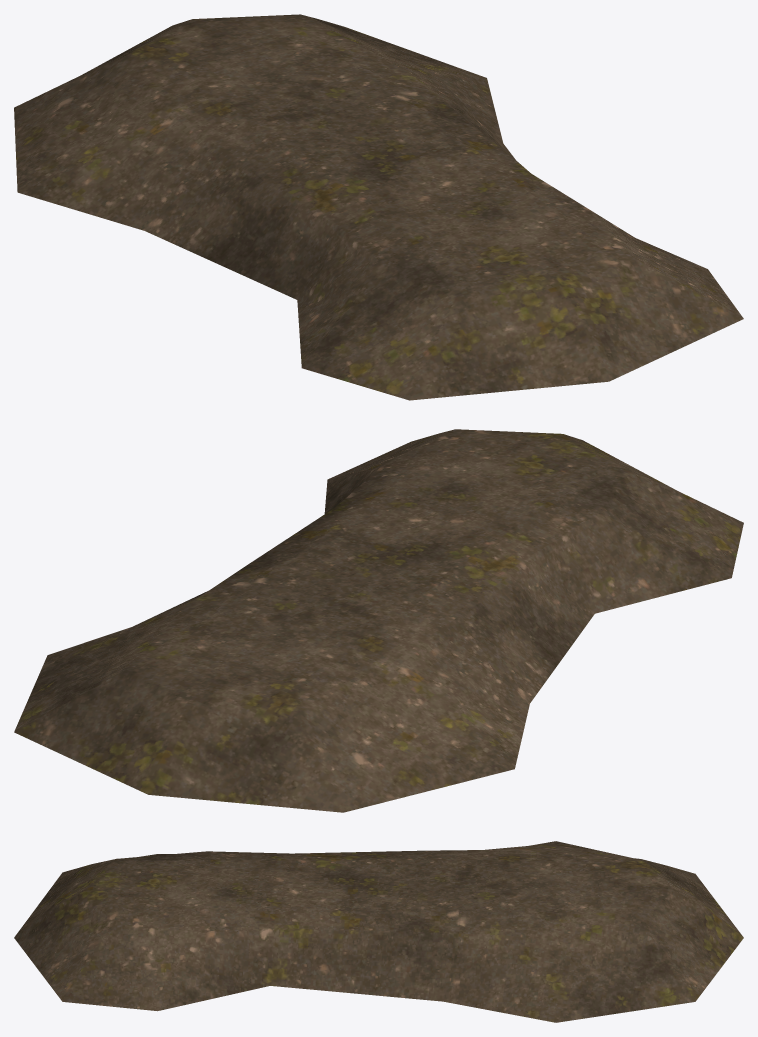
File: SM_ST_Vault_DirtStep_01.fbx
3 renders of one model, top to bottom at view 1: azimuth 30°, elevation 25°; view 2: azimuth 150°, elevation 25°; view 3: azimuth 270°, elevation 25°, orthographic. The views are drawn at different scales.
Parts seen in each view (by area): view 1: SM_ST_Vault_DirtStep_01.mo; view 2: SM_ST_Vault_DirtStep_01.mo; view 3: SM_ST_Vault_DirtStep_01.mo.
Part boxes in pixels (x1,y1,x2,y2): SM_ST_Vault_DirtStep_01.mo: [14, 14, 743, 400]; SM_ST_Vault_DirtStep_01.mo: [14, 429, 743, 812]; SM_ST_Vault_DirtStep_01.mo: [14, 841, 743, 1022].
Bounding box in the file's own units: 161 × 21.31 × 274.
